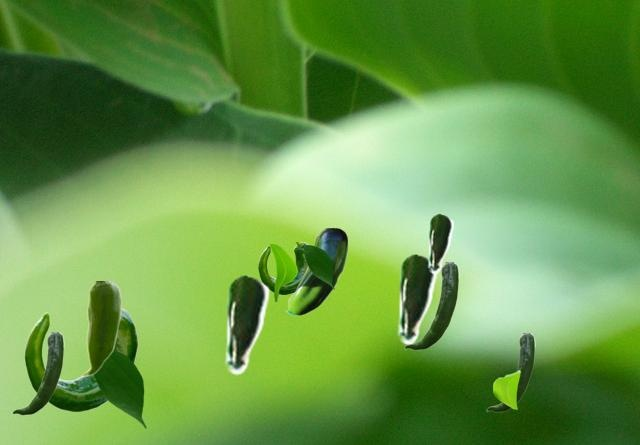green_chili: (24, 307, 137, 410), (285, 228, 346, 315), (222, 274, 269, 374), (404, 262, 458, 349), (12, 332, 63, 414), (395, 253, 437, 344), (486, 333, 534, 411), (81, 281, 120, 376), (258, 242, 309, 293), (426, 213, 453, 273)
